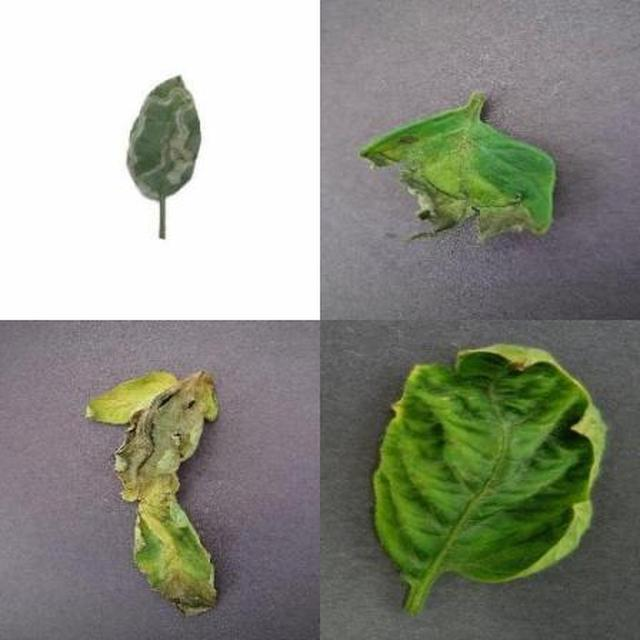Leaf Miner: (104, 181, 640, 640)
